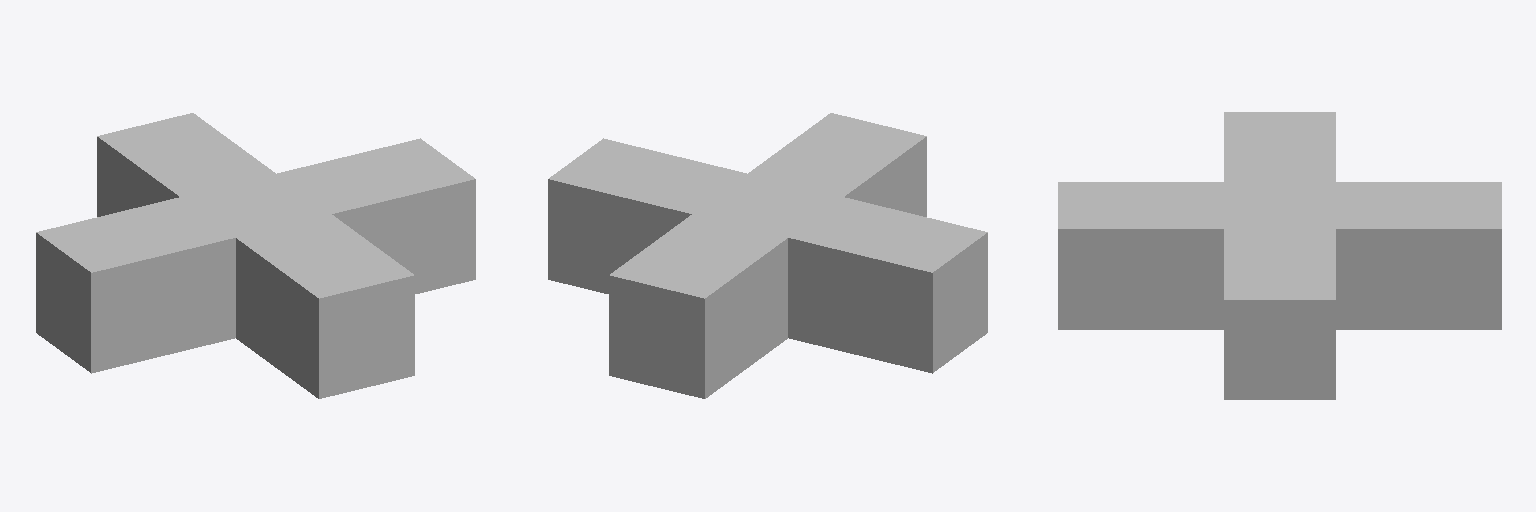
File: Plus Sign.obj
3 renders of one model, left to right at view 1: azimuth 30°, elevation 25°; view 2: azimuth 150°, elevation 25°; view 3: azimuth 270°, elevation 25°, orthographic.
Bounding box in the file's own units: 64 × 16 × 64.